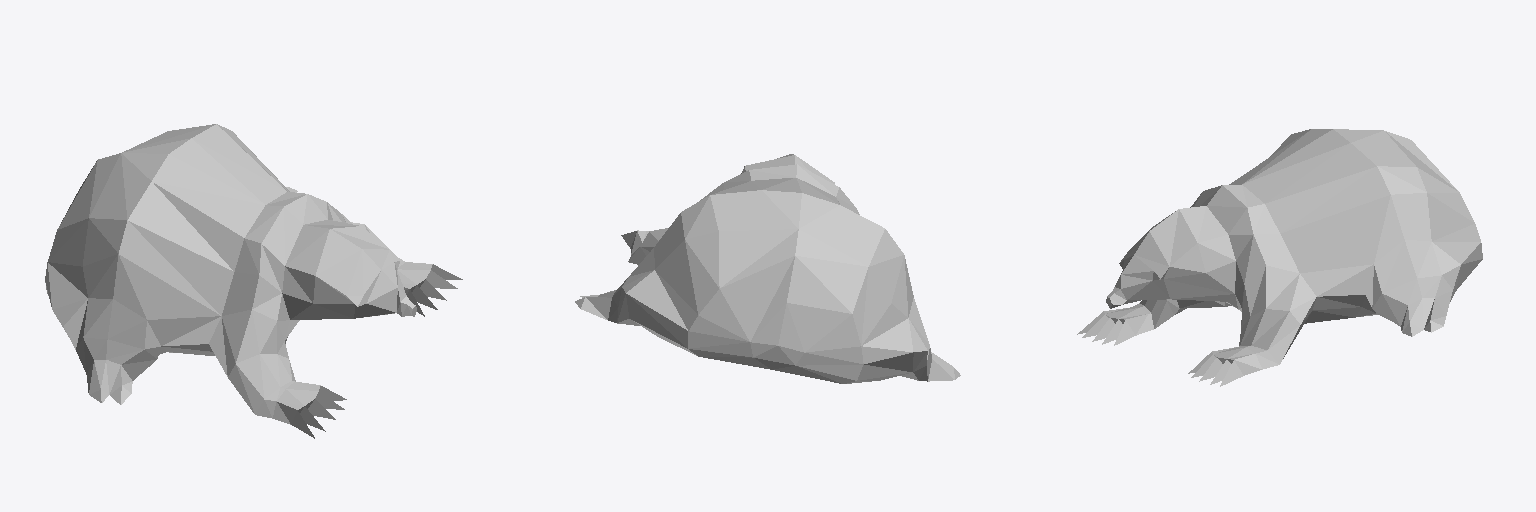
File: mole.obj
The picture shows the model from 3 angles: view 1: azimuth 30°, elevation 25°; view 2: azimuth 150°, elevation 25°; view 3: azimuth 270°, elevation 25°; orthographic projection.
Size of the model in its own units: 66.35 by 35.4 by 65.88.